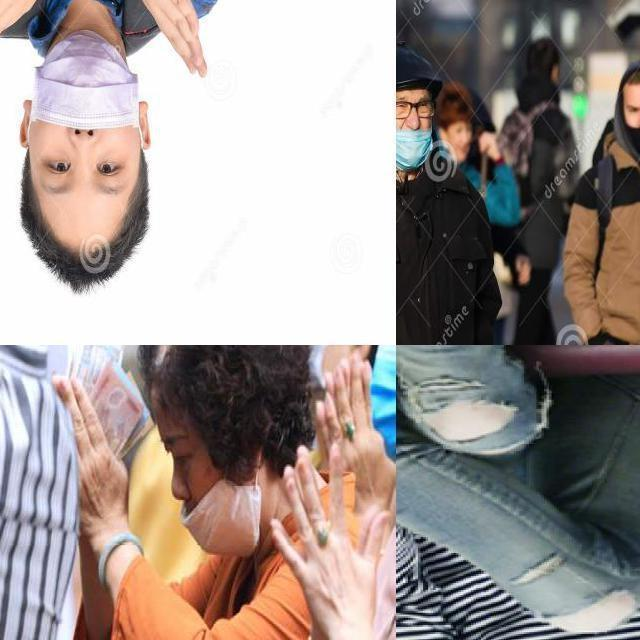hairnet: (36, 34, 133, 204), (163, 431, 259, 557), (396, 92, 434, 169)
no_apron: (271, 451, 395, 636), (37, 374, 138, 538), (318, 363, 387, 457)
no_gloves: (19, 151, 162, 296), (137, 345, 306, 458)
